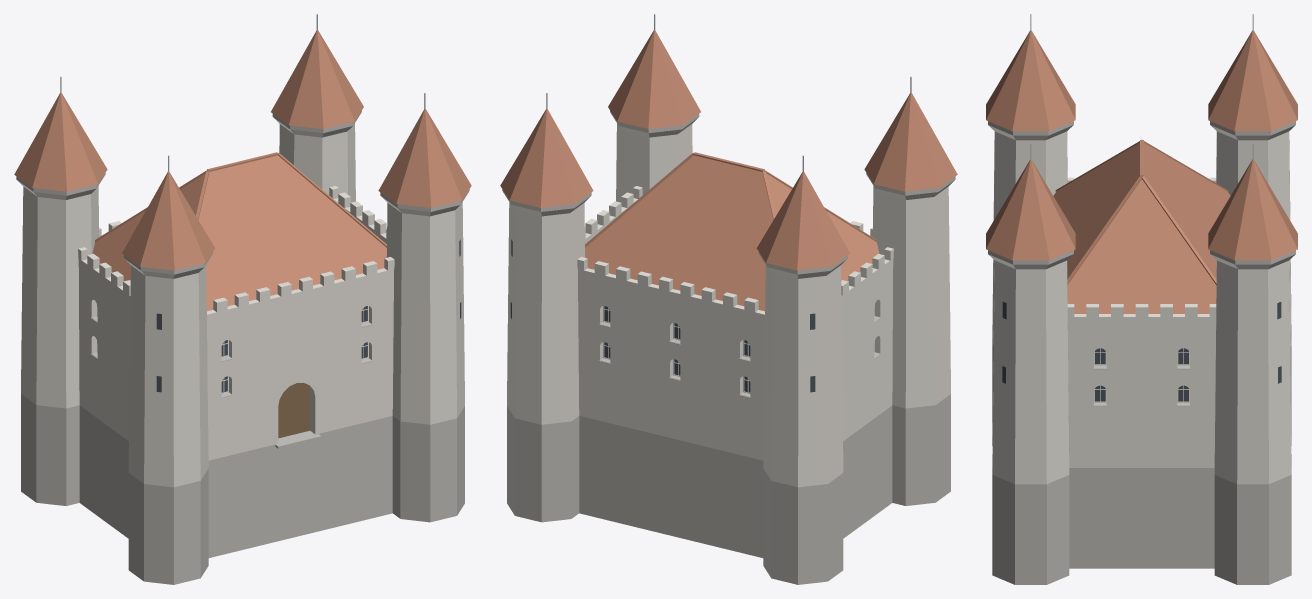
Rendered from castle_m.glb.
3 views of the same model, side by side, from view 1: azimuth 30°, elevation 25°; view 2: azimuth 150°, elevation 25°; view 3: azimuth 270°, elevation 25° (orthographic). The views are drawn at different scales.
Parts seen in each view (by area): view 1: castle_m; view 2: castle_m; view 3: castle_m.
Part boxes in pixels (<box>): castle_m: <box>14,14,471,584</box>; castle_m: <box>500,14,957,584</box>; castle_m: <box>986,14,1297,584</box>.
Size of the model in its own units: 28.47 by 33.8 by 22.47.
